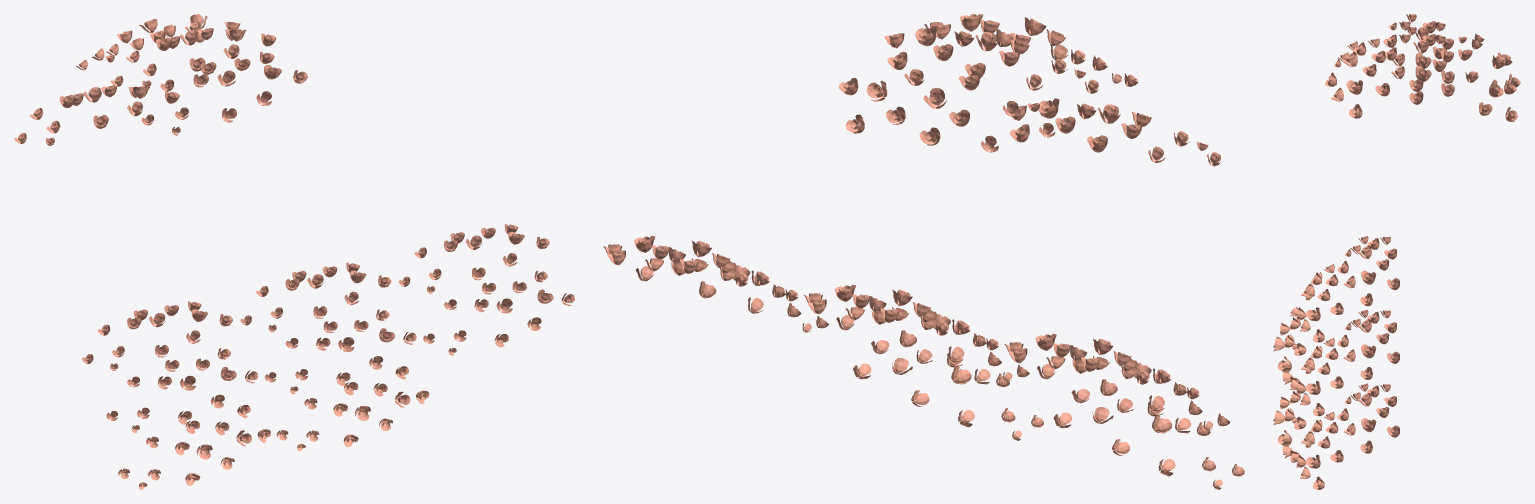
Rendered from 31_openskp_material_69.obj.
3 renders of one model, left to right at view 1: azimuth 30°, elevation 25°; view 2: azimuth 150°, elevation 25°; view 3: azimuth 270°, elevation 25°, orthographic. The views are drawn at different scales.
Visible parts, largest first — view 1: 31_openskp_material_69; view 2: 31_openskp_material_69; view 3: 31_openskp_material_69.
Boxes of the visible parts, x1,y1,x2,y2 form: 31_openskp_material_69: (14, 14, 574, 489); 31_openskp_material_69: (603, 14, 1244, 489); 31_openskp_material_69: (1273, 14, 1520, 489).
Bounding box in the file's own units: 45.41 × 32.5 × 19.96.
